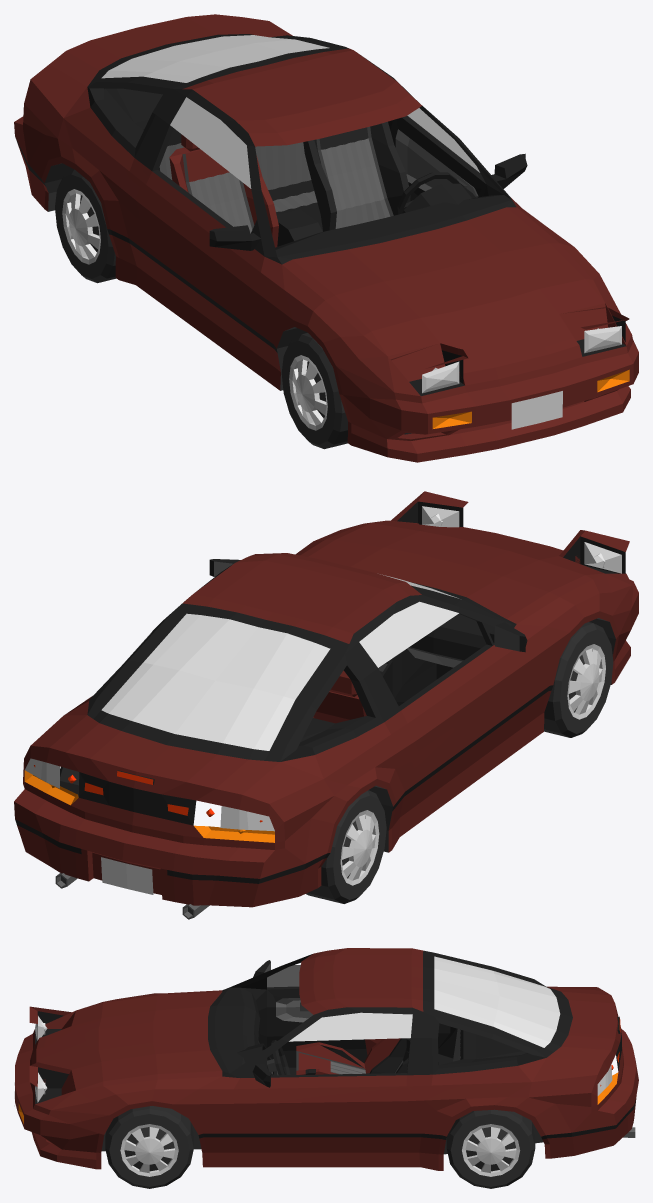
File: Nissan_180MX.glb
3 renders of one model, top to bottom at view 1: azimuth 30°, elevation 25°; view 2: azimuth 150°, elevation 25°; view 3: azimuth 270°, elevation 25°, orthographic. The views are drawn at different scales.
Parts seen in each view (by area): view 1: Plane.002, Cube, Cylinder.002, Cylinder.001, Cube.002, Plane.001, Cylinder.004; view 2: Plane.002, Cylinder.002, Cylinder.001, Plane.001, Cube.002; view 3: Plane.002, Cylinder, Cylinder.005, Cube.002, Plane.001, Cube, Cylinder.004.
Boxes of the visible parts, x1,y1,x2,y2 form: Plane.002: [14, 14, 638, 462]; Cube: [303, 121, 410, 231]; Cylinder.002: [281, 333, 347, 449]; Cylinder.001: [55, 169, 116, 283]; Cube.002: [169, 134, 278, 247]; Plane.001: [390, 307, 629, 393]; Cylinder.004: [397, 172, 475, 214]; Plane.002: [14, 520, 638, 919]; Cylinder.002: [544, 622, 613, 737]; Cylinder.001: [306, 790, 386, 903]; Plane.001: [391, 491, 629, 573]; Cube.002: [313, 670, 366, 723]; Plane.002: [14, 948, 638, 1170]; Cylinder: [105, 1106, 193, 1188]; Cylinder.005: [446, 1109, 535, 1188]; Cube.002: [296, 1038, 400, 1074]; Plane.001: [29, 1006, 73, 1102]; Cube: [369, 1038, 410, 1073]; Cylinder.004: [237, 1040, 290, 1075].
Bounding box in the file's own units: 5.04 × 3.29 × 11.46.
